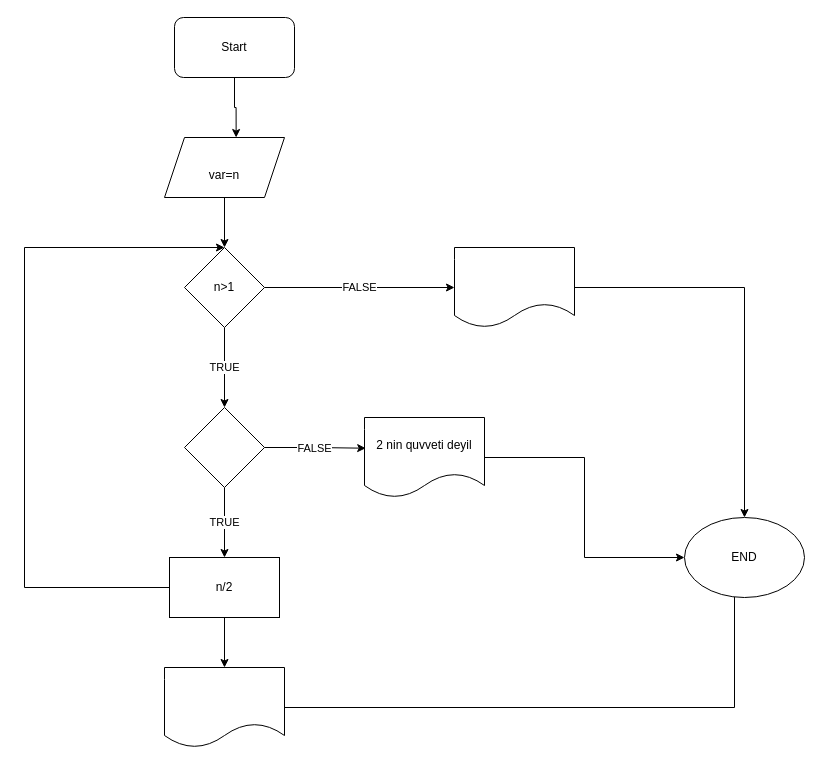
This 822x765 diagram has some shape labels left out. The shapes that lost their labels are listed below. From the top down, each one's centre as x and y in pixels, then its label:
At (514,287): "Eded musbet olmalidi".
At (224,447): "n%2!=0".
At (224,707): "2 nin quvvetidir".
